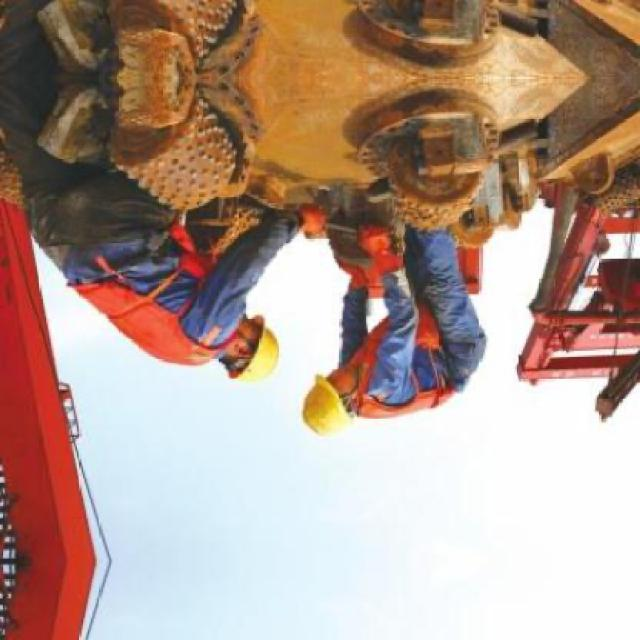con casco: (202, 317, 332, 405), (296, 353, 401, 443)
